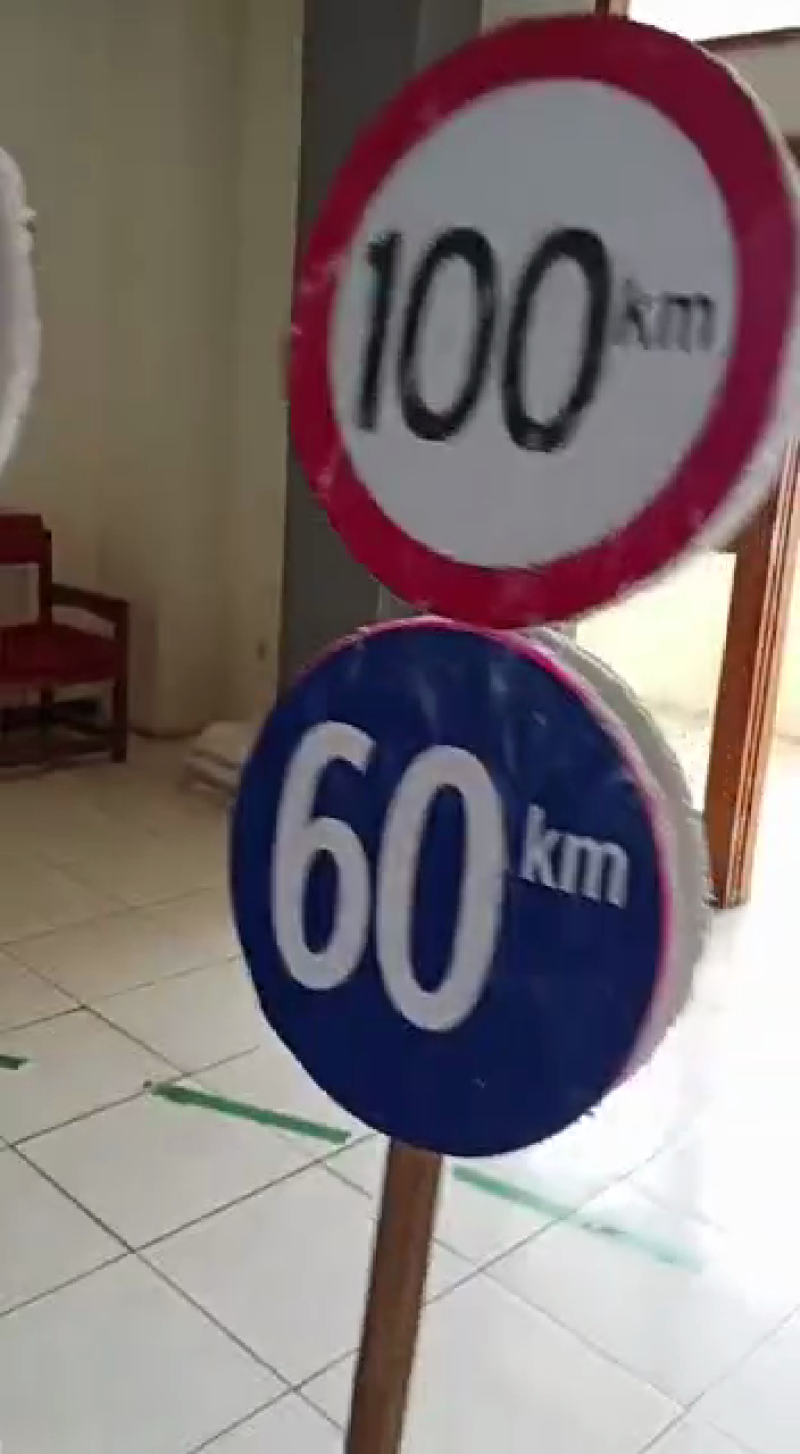batas maksimal 100kmperjam minimal 60kmperjam: (215, 1, 800, 1156)
